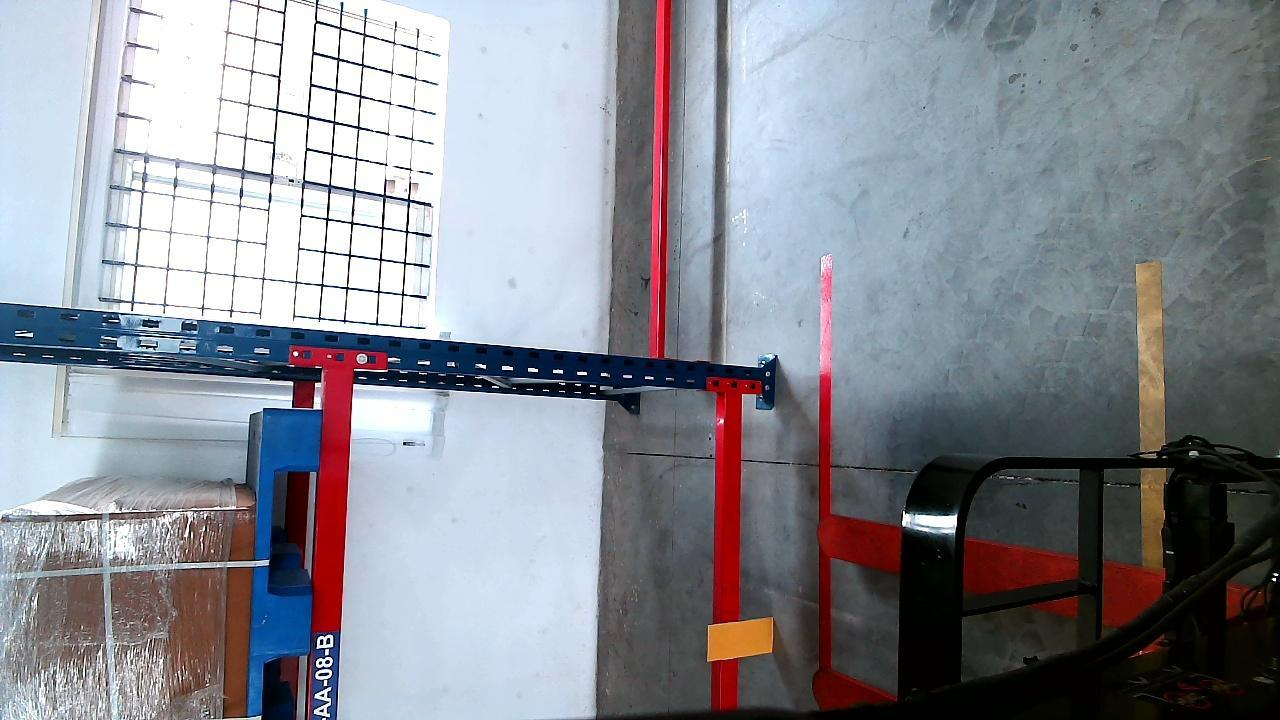red_line: (816, 256, 835, 720)
yellow_line: (1140, 245, 1165, 613)
